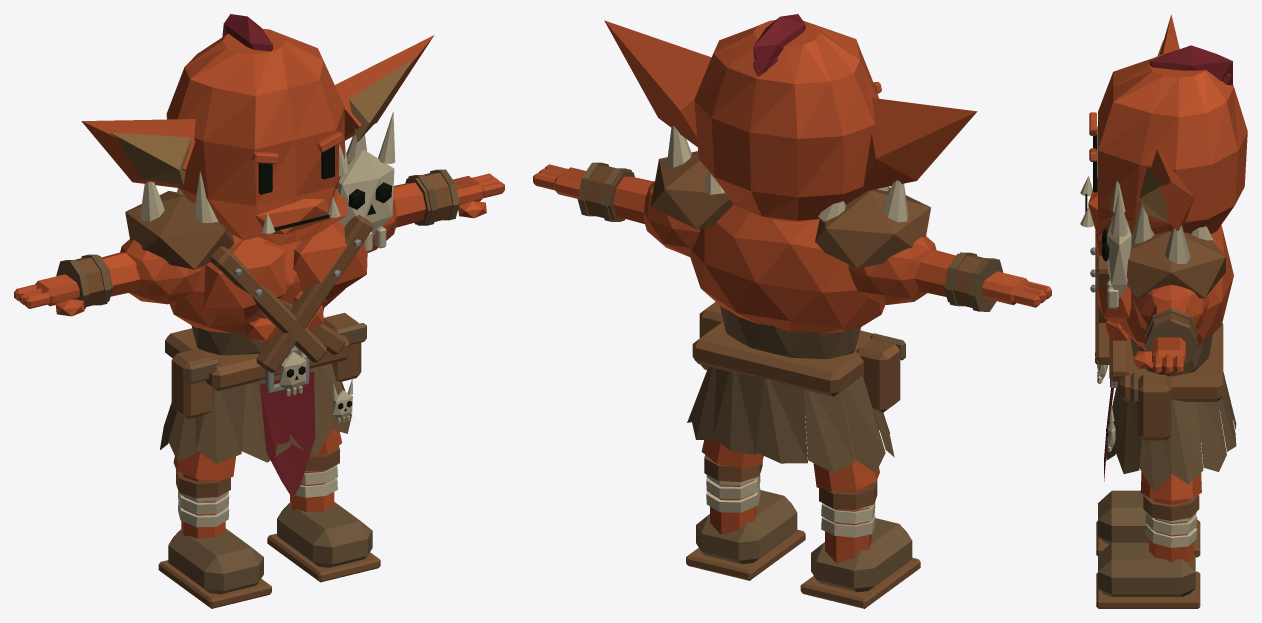
File: orc_boss.glb
3 views of the same model, side by side, from view 1: azimuth 30°, elevation 25°; view 2: azimuth 150°, elevation 25°; view 3: azimuth 270°, elevation 25° (orthographic). The views are drawn at different scales.
Visible parts, largest first — view 1: Body, Lower leg, Lower leg.001, Forearm, Forearm.001, Upper arm, Green thigh; view 2: Body, Lower leg, Lower leg.001, Forearm, Forearm.001, Upper arm, Upper arm.001, Green thigh, Green thigh.001; view 3: Body, Lower leg.001, Forearm.001, Lower leg, Upper arm.001, Green thigh.001.
Boxes of the visible parts, x1,y1,x2,y2 form: Body: (81, 14, 434, 498); Lower leg: (158, 469, 271, 608); Lower leg.001: (267, 446, 380, 582); Forearm: (14, 252, 140, 316); Forearm.001: (393, 169, 504, 227); Upper arm: (120, 239, 201, 304); Green thigh: (173, 451, 235, 480); Body: (604, 14, 977, 473); Lower leg: (800, 480, 920, 608); Lower leg.001: (686, 455, 805, 580); Forearm: (915, 250, 1051, 311); Forearm.001: (533, 162, 653, 223); Upper arm: (848, 236, 936, 304); Upper arm.001: (644, 181, 700, 256); Green thigh: (813, 391, 879, 491); Green thigh.001: (701, 438, 763, 468); Body: (1080, 14, 1247, 491); Lower leg.001: (1096, 495, 1200, 608); Forearm.001: (1133, 299, 1197, 373); Lower leg: (1096, 490, 1200, 557); Upper arm.001: (1133, 284, 1209, 329); Green thigh.001: (1140, 411, 1201, 500).
Bounding box in the file's own units: 1.76 × 1.89 × 0.5479.
